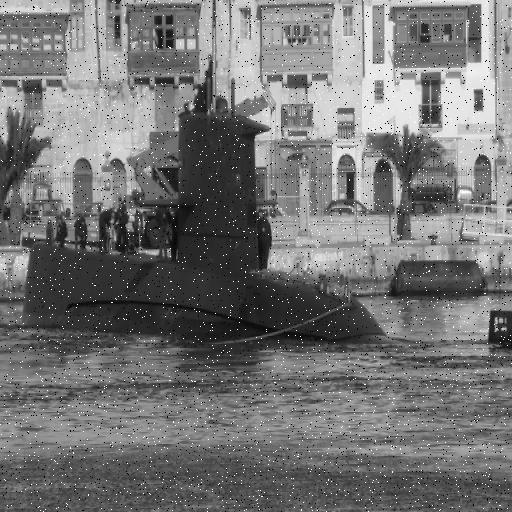submarine: (15, 77, 391, 344)
